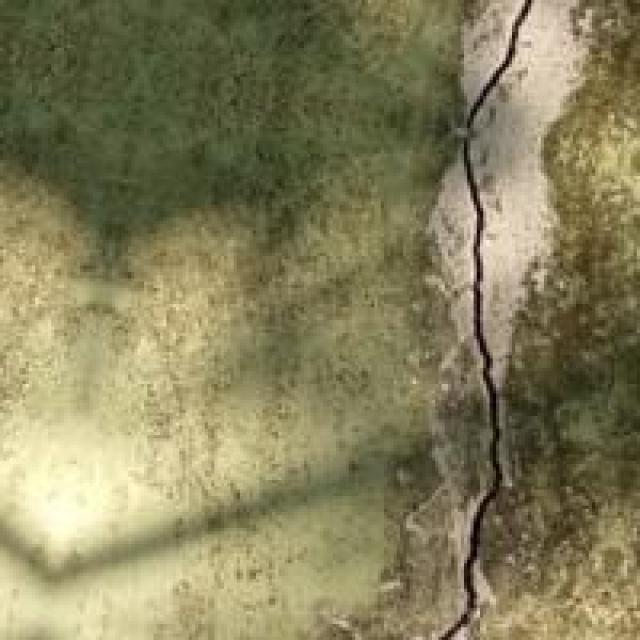crack: (397, 0, 595, 637)
